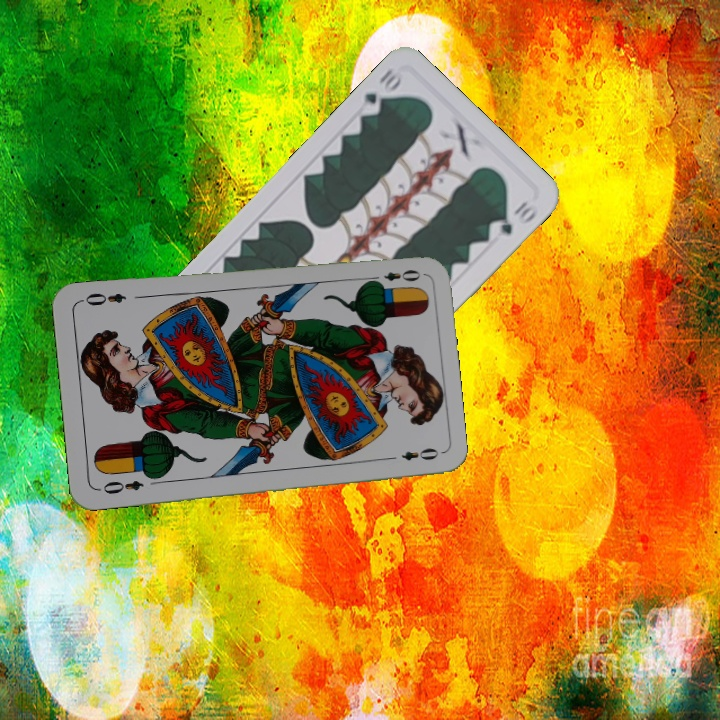EO: (365, 265, 423, 288), (94, 476, 146, 497)
G10: (355, 63, 405, 119)
